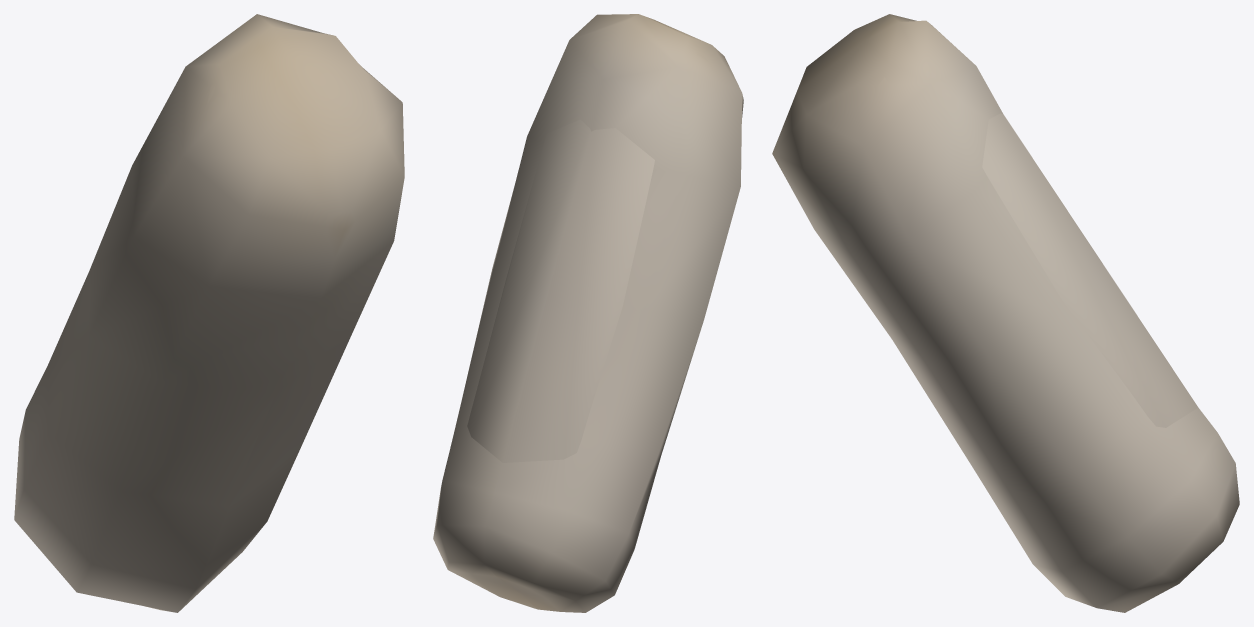
File: vertebrae caudales 17.fbx
3 views of the same model, side by side, from view 1: azimuth 30°, elevation 25°; view 2: azimuth 150°, elevation 25°; view 3: azimuth 270°, elevation 25° (orthographic). The views are drawn at different scales.
Parts seen in each view (by area): view 1: vertebrae caudales 17; view 2: vertebrae caudales 17, vertebrae caudales 17 low; view 3: vertebrae caudales 17, vertebrae caudales 17 low.
Boxes of the visible parts, x1,y1,x2,y2 form: vertebrae caudales 17: (14,14,404,612); vertebrae caudales 17: (433,14,743,612); vertebrae caudales 17 low: (467,47,708,462); vertebrae caudales 17: (772,14,1239,612); vertebrae caudales 17 low: (876,77,1198,427).
Bounding box in the file's own units: 0.412 × 0.982 × 0.7118.
Materials: 1 (1 with a texture image).
